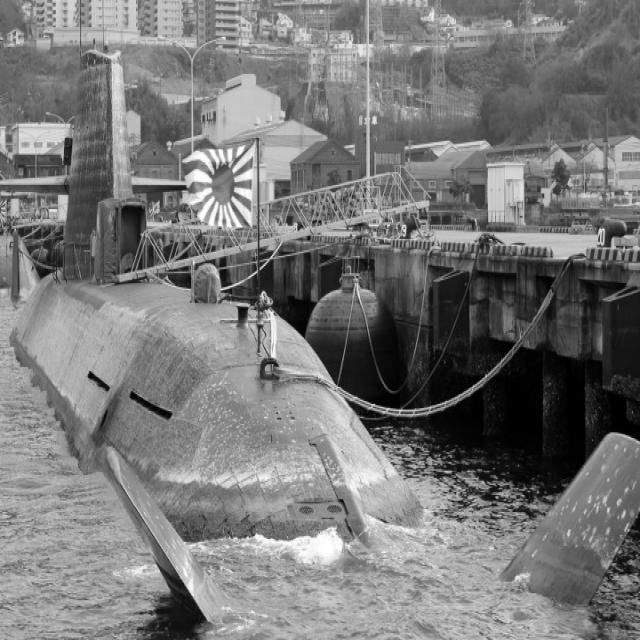submarine: (1, 42, 640, 637)
